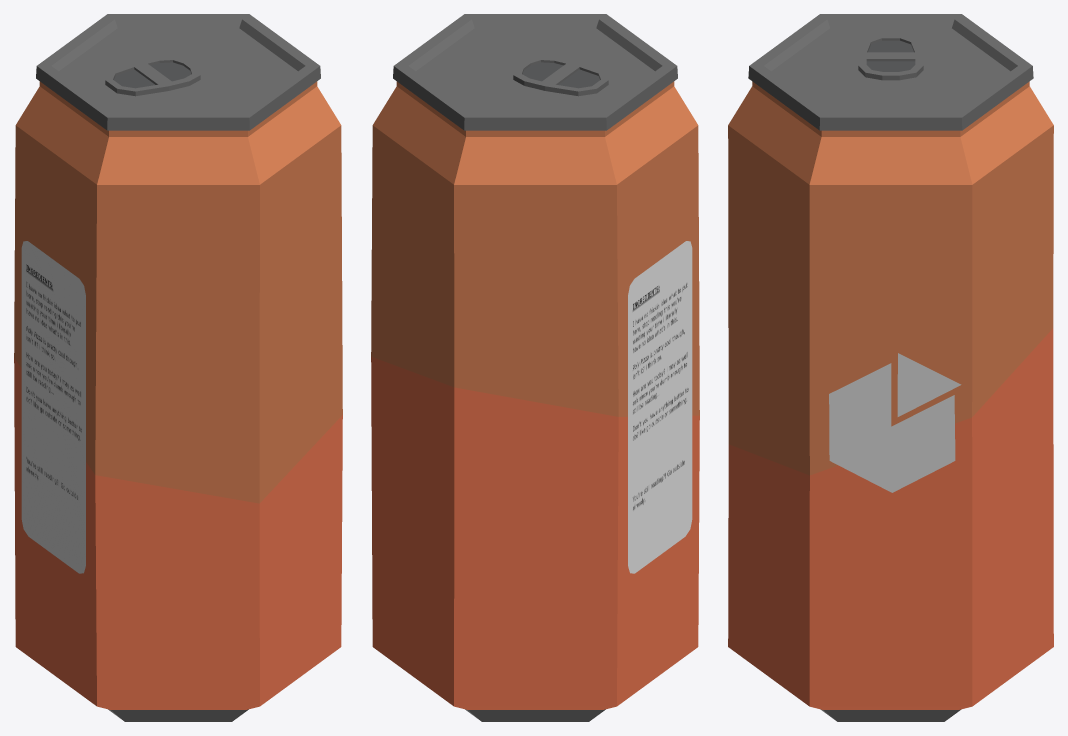
Rendered from Poly Energy.glb.
The picture shows the model from 3 angles, left to right: view 1: azimuth 30°, elevation 25°; view 2: azimuth 150°, elevation 25°; view 3: azimuth 270°, elevation 25°; orthographic projection.
Parts seen in each view (by area): view 1: Plane.001; view 2: Plane.001; view 3: Plane.001.
Boxes of the visible parts, x1=… form: Plane.001: x1=14, y1=14, x2=342, y2=721; Plane.001: x1=371, y1=14, x2=699, y2=721; Plane.001: x1=728, y1=14, x2=1053, y2=721.
Bounding box in the file's own units: 1.76 × 4.18 × 2.
Materials: 6 (1 with a texture image).
